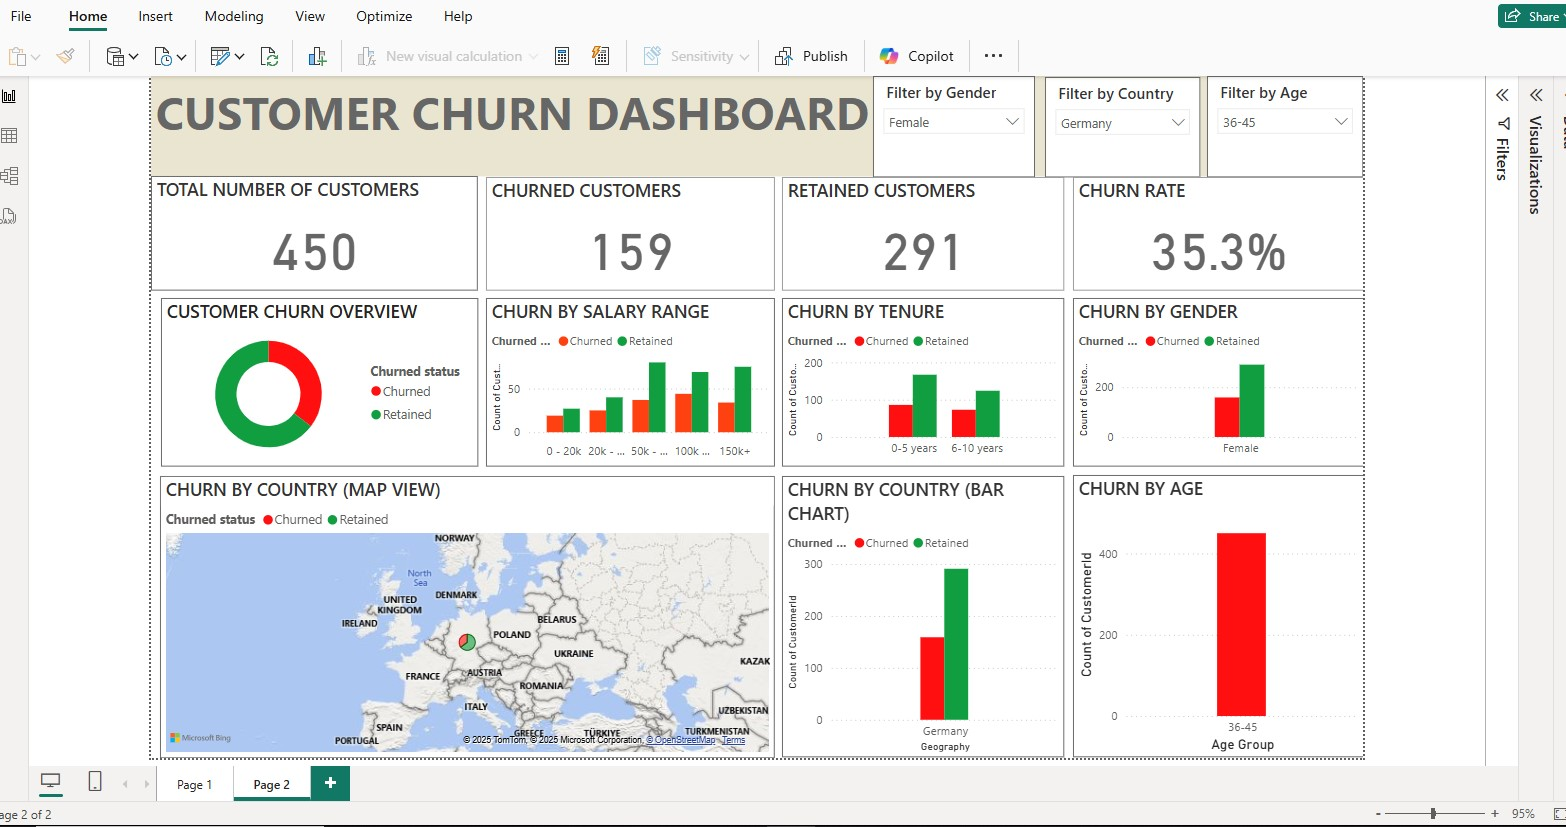

The page's visual inventory and layout, read from the dashboard file:
{"tool":"powerbi","page":{"name":"Page 2","canvas":[1280,720],"ordinal":1},"visuals":[{"type":"textbox","box":[0,0,1280.5,105.9],"z":0},{"type":"card","title":"TOTAL NUMBER OF CUSTOMERS","fields":{"Values":["CountNonNull(Bank_Churn.CustomerId)"]},"box":[0,105.9,345.2,120.8],"z":1000},{"type":"card","title":" CHURNED CUSTOMERS","fields":{"Values":["Count(Bank_Churn.CustomerId)"]},"box":[353.2,107.1,305.3,119.6],"z":2000},{"type":"card","title":"RETAINED CUSTOMERS","fields":{"Values":["CountNonNull(Bank_Churn.CustomerId)"]},"box":[666.5,107.1,298.5,119.6],"z":3000},{"type":"map","title":"CHURN BY COUNTRY (MAP VIEW)","fields":{"Category":["Bank_Churn.Geography"],"Size":["CountNonNull(Bank_Churn.CustomerId)"],"Series":["Bank_Churn.Churned status"]},"box":[10,422.5,648.8,297.5],"z":4000},{"type":"clusteredColumnChart","title":"CHURN BY COUNTRY (BAR  CHART)","fields":{"Category":["Bank_Churn.Geography"],"Y":["CountNonNull(Bank_Churn.CustomerId)"],"Series":["Bank_Churn.Churned status"]},"box":[666.5,422.7,298.5,297.3],"z":5000},{"type":"clusteredColumnChart","title":"CHURN BY GENDER","fields":{"Category":["Bank_Churn.Gender"],"Y":["CountNonNull(Bank_Churn.CustomerId)"],"Series":["Bank_Churn.Churned status"]},"box":[972.9,234.7,307.6,177.7],"z":6000},{"type":"clusteredColumnChart","title":"CHURN BY AGE","fields":{"Category":["Bank_Churn.Age Group"],"Y":["CountNonNull(Bank_Churn.CustomerId)"]},"box":[972.9,421.5,307.6,298.5],"z":7000},{"type":"clusteredColumnChart","title":"CHURN BY TENURE","fields":{"Category":["Bank_Churn.Tenure Group"],"Y":["CountNonNull(Bank_Churn.CustomerId)"],"Series":["Bank_Churn.Churned status"]},"box":[666.5,234.7,298.5,177.7],"z":8000},{"type":"clusteredColumnChart","title":"CHURN BY SALARY RANGE","fields":{"Category":["Bank_Churn (2).Salary Group"],"Y":["CountNonNull(Bank_Churn (2).CustomerId)"],"Series":["Bank_Churn (2).Churned status"]},"box":[353.2,234.7,305.3,177.7],"z":9000},{"type":"slicer","fields":{"Values":["Bank_Churn.Geography"]},"box":[943.3,1.1,164.1,105.9],"z":10000},{"type":"slicer","fields":{"Values":["Bank_Churn.Gender"]},"box":[762.2,0,170.9,107.1],"z":11000},{"type":"slicer","fields":{"Values":["Bank_Churn.Age Group"]},"box":[1115.3,0,165.2,107.1],"z":12000},{"type":"card","title":"CHURN RATE","fields":{"Values":["Bank_Churn.Churn Rate (%)"]},"box":[972.9,107.1,307.6,119.6],"z":13000},{"type":"donutChart","title":" CUSTOMER CHURN OVERVIEW","fields":{"Y":["CountNonNull(Bank_Churn.CustomerId)"],"Series":["Bank_Churn.Churned status"]},"box":[10.3,234.7,334.9,177.7],"z":14000}]}

Visuals, with their boxes on the page's 1280x720 design canvas (x1, y1, x2, y2). These are canvas units, not pixel positions in the 1566x827 screenshot, which may show the page scaled, cropped or inside an application window:
textbox: [x1=0, y1=0, x2=1280, y2=106]
"TOTAL NUMBER OF CUSTOMERS" card: [x1=0, y1=106, x2=345, y2=227]
" CHURNED CUSTOMERS" card: [x1=353, y1=107, x2=658, y2=227]
"RETAINED CUSTOMERS" card: [x1=666, y1=107, x2=965, y2=227]
"CHURN BY COUNTRY (MAP VIEW)" map: [x1=10, y1=422, x2=659, y2=720]
"CHURN BY COUNTRY (BAR  CHART)" clusteredColumnChart: [x1=666, y1=423, x2=965, y2=720]
"CHURN BY GENDER" clusteredColumnChart: [x1=973, y1=235, x2=1280, y2=412]
"CHURN BY AGE" clusteredColumnChart: [x1=973, y1=422, x2=1280, y2=720]
"CHURN BY TENURE" clusteredColumnChart: [x1=666, y1=235, x2=965, y2=412]
"CHURN BY SALARY RANGE" clusteredColumnChart: [x1=353, y1=235, x2=658, y2=412]
slicer - Bank_Churn.Geography: [x1=943, y1=1, x2=1107, y2=107]
slicer - Bank_Churn.Gender: [x1=762, y1=0, x2=933, y2=107]
slicer - Bank_Churn.Age Group: [x1=1115, y1=0, x2=1280, y2=107]
"CHURN RATE" card: [x1=973, y1=107, x2=1280, y2=227]
" CUSTOMER CHURN OVERVIEW" donutChart: [x1=10, y1=235, x2=345, y2=412]
